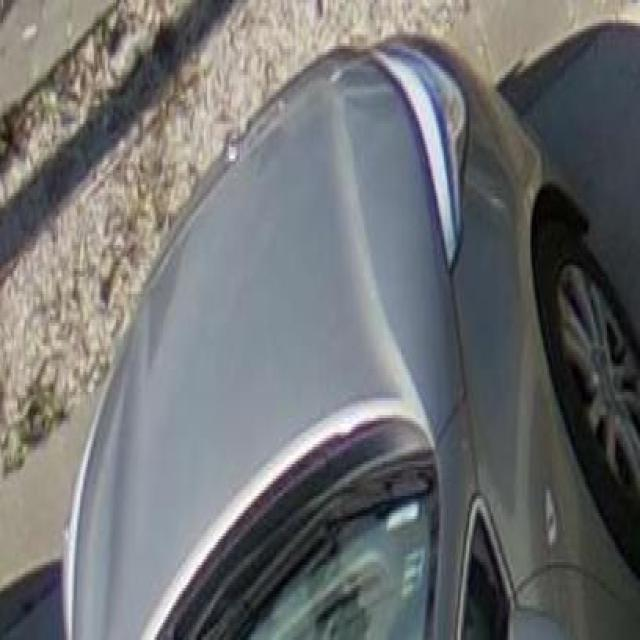Car: (92, 88, 514, 640)
